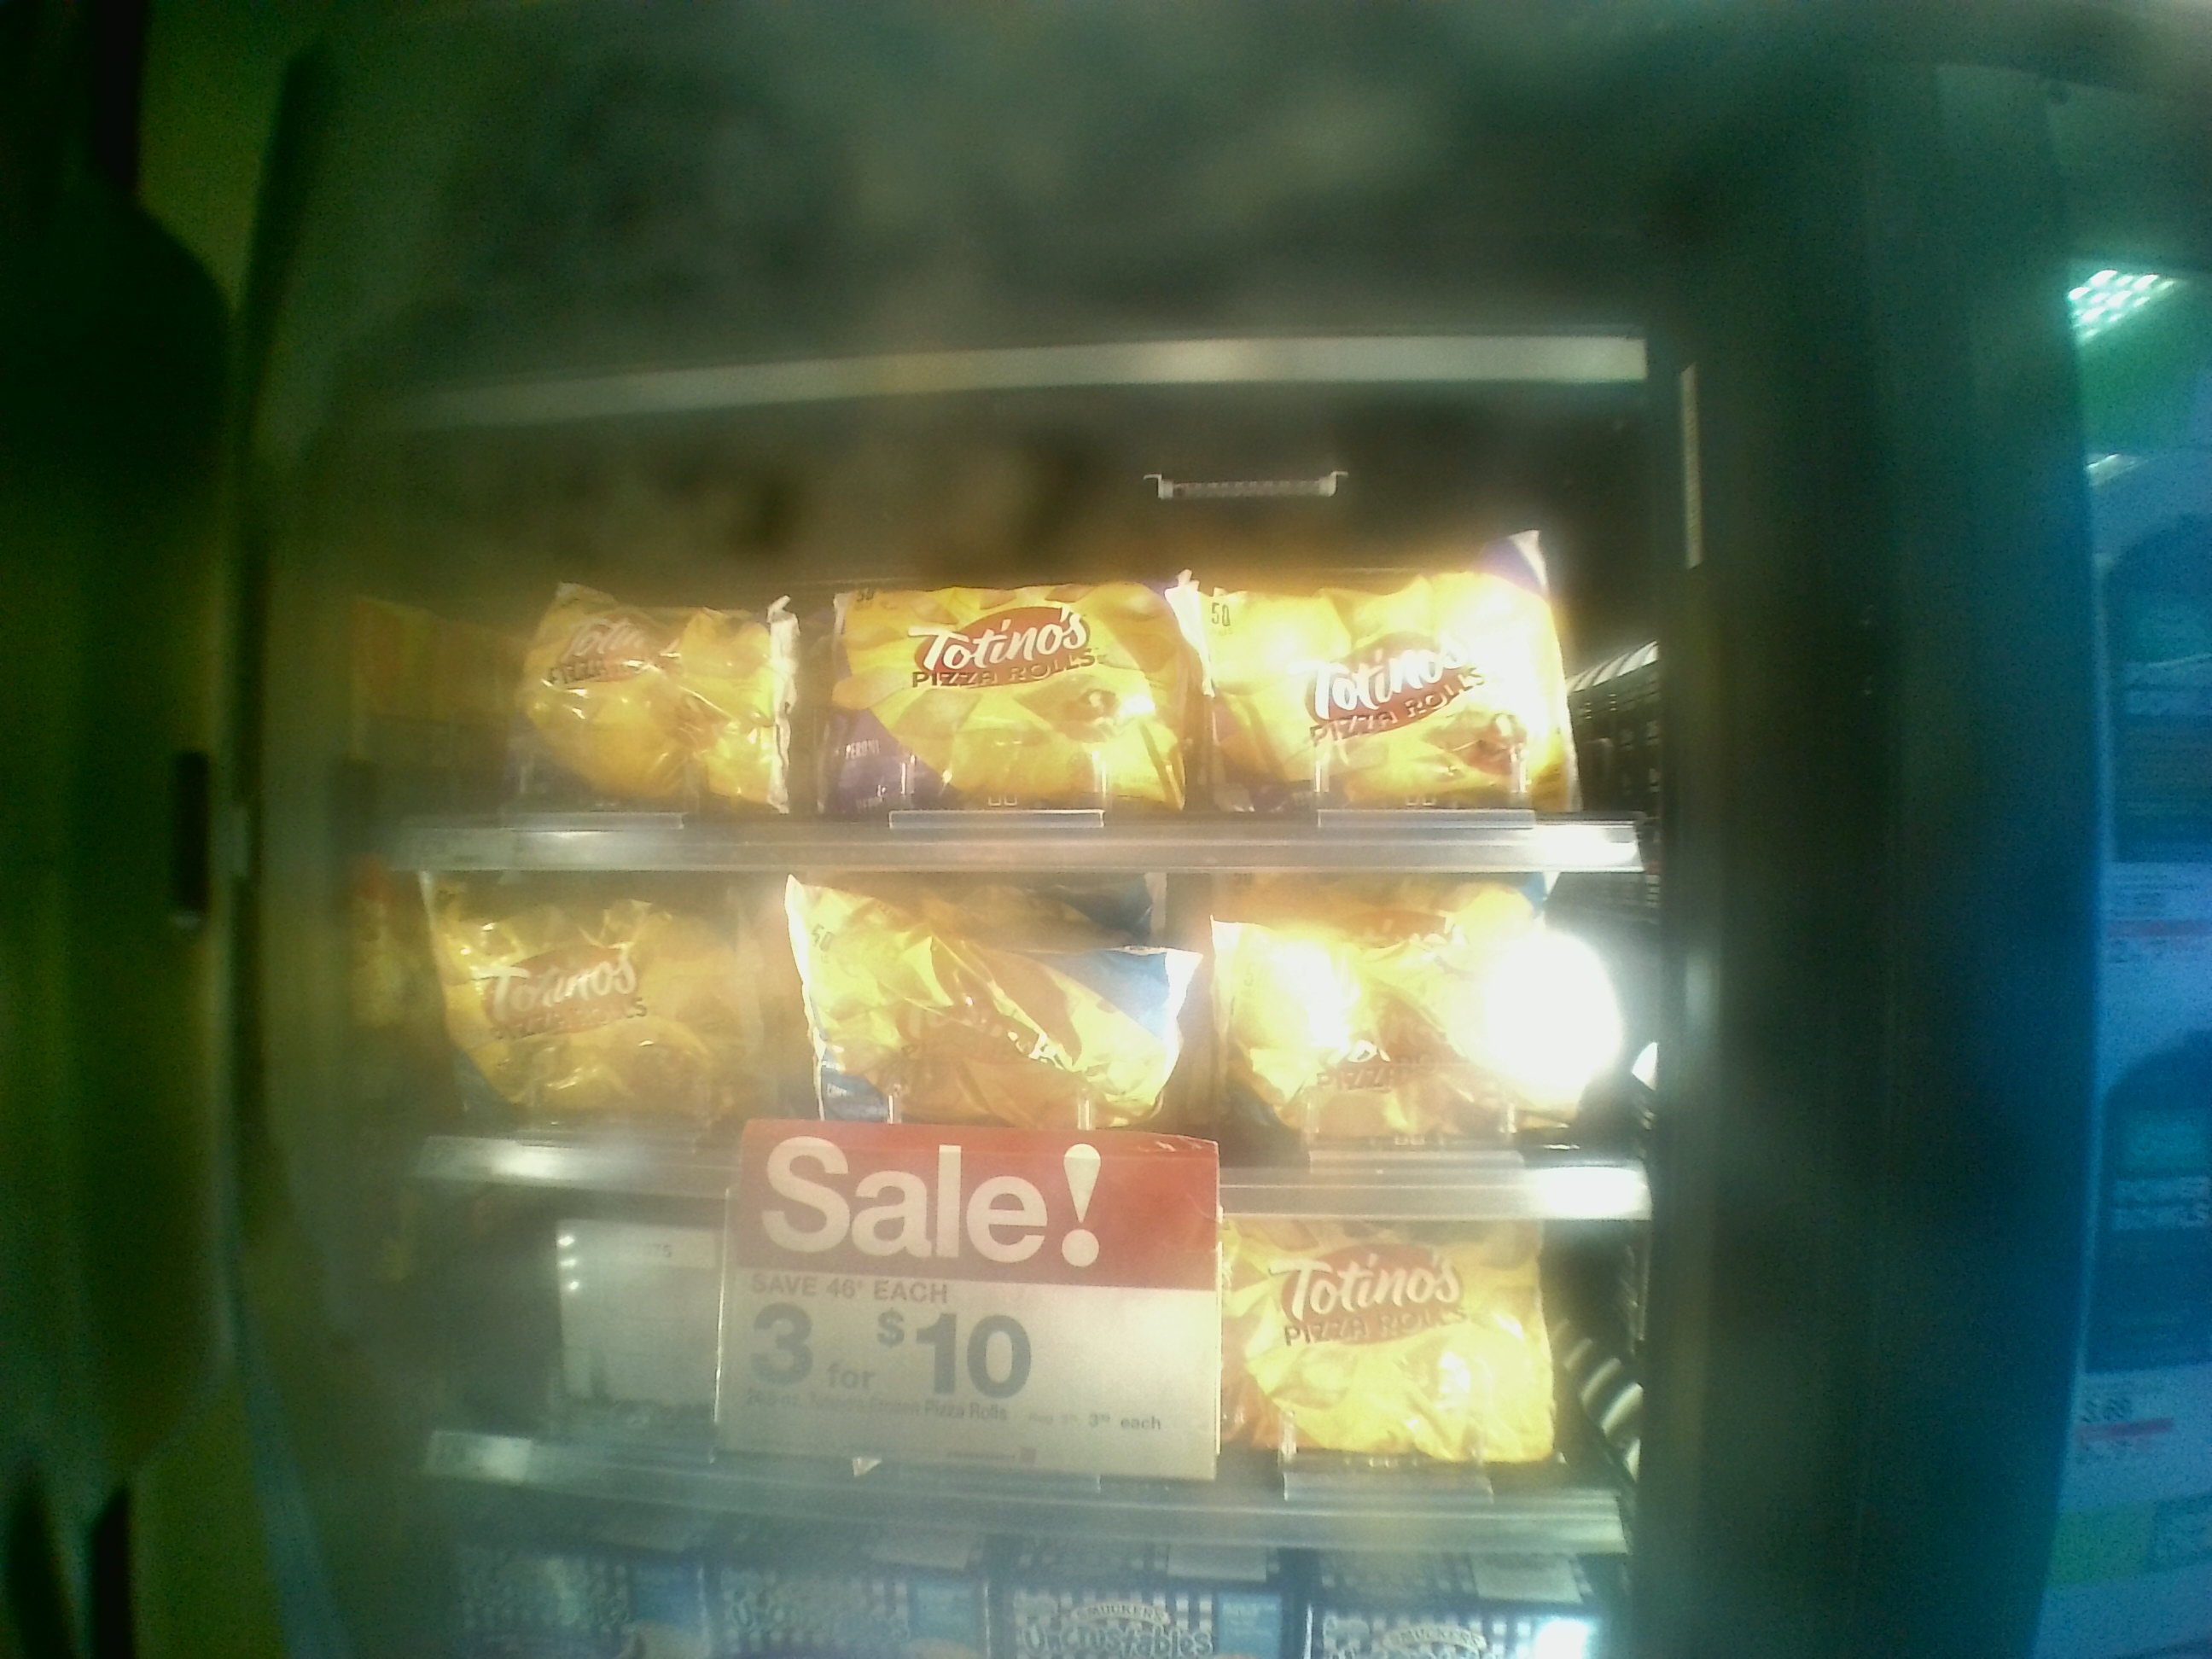shelf: (289, 455, 1646, 857), (359, 1164, 1625, 1553), (350, 863, 1641, 1222)
